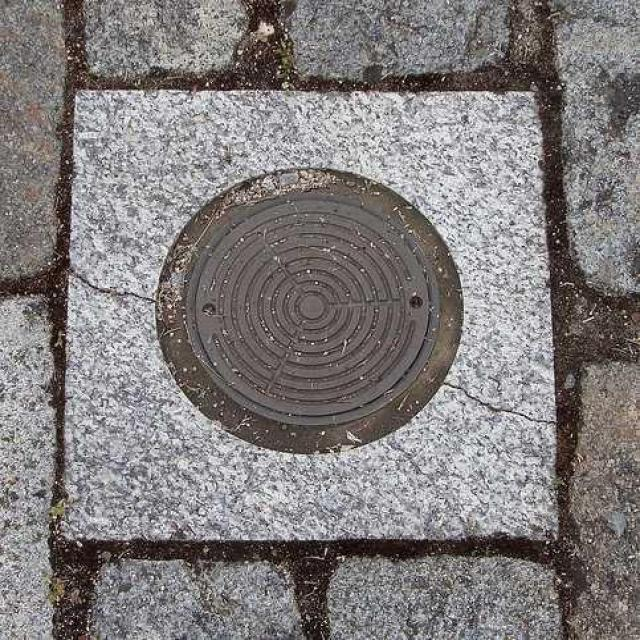manhole: (157, 169, 463, 453)
